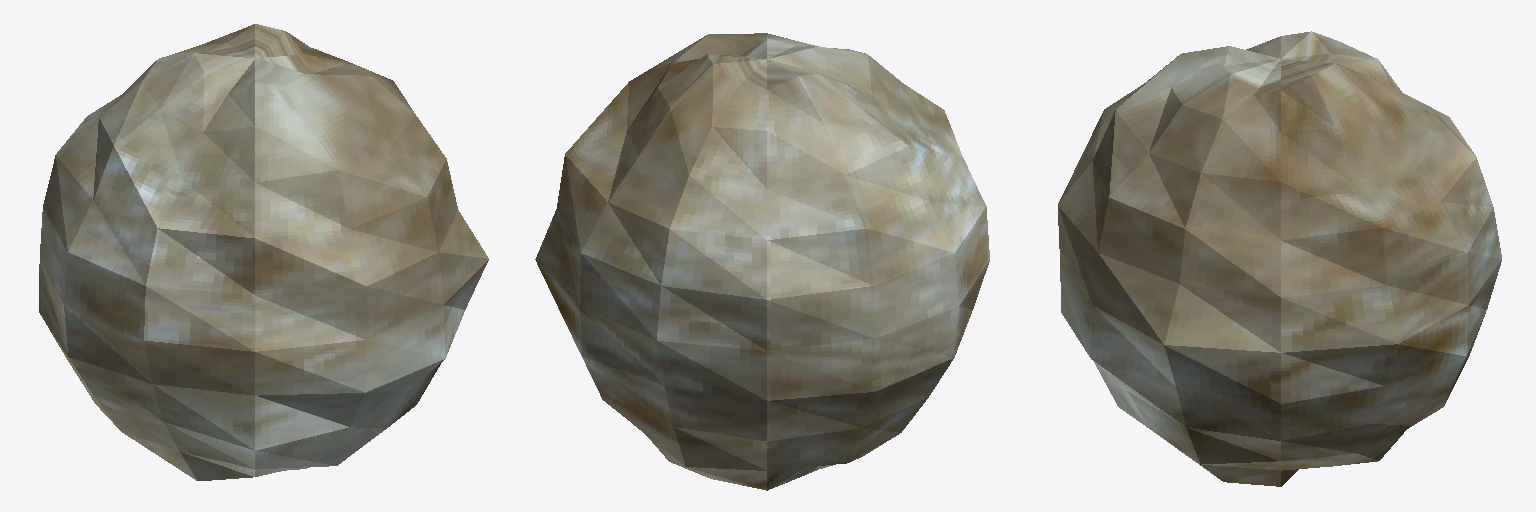
The picture shows the model from 3 angles: view 1: azimuth 30°, elevation 25°; view 2: azimuth 150°, elevation 25°; view 3: azimuth 270°, elevation 25°; orthographic projection.
Visible parts, largest first — view 1: Sphere_Sphere.001; view 2: Sphere_Sphere.001; view 3: Sphere_Sphere.001.
Boxes of the visible parts, x1=… form: Sphere_Sphere.001: x1=39, y1=24, x2=488, y2=480; Sphere_Sphere.001: x1=535, y1=33, x2=989, y2=490; Sphere_Sphere.001: x1=1058, y1=31, x2=1501, y2=486.
Bounding box in the file's own units: 2 × 2.05 × 2.01.
1 materials, 1 textured.